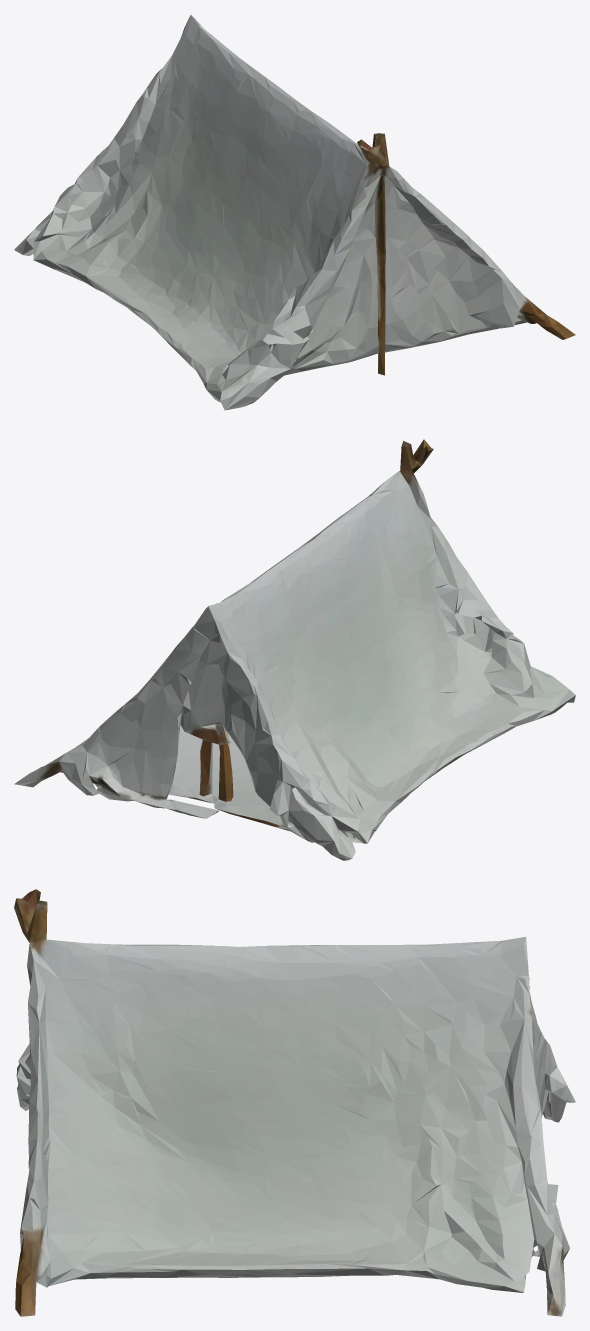
The model's file is bar_tarp_dugout.glb.
3 views of the same model, one above another, from view 1: azimuth 30°, elevation 25°; view 2: azimuth 150°, elevation 25°; view 3: azimuth 270°, elevation 25° (orthographic). The views are drawn at different scales.
Visible parts, largest first — view 1: bar_tarp_dugout_tex; view 2: bar_tarp_dugout_tex; view 3: bar_tarp_dugout_tex.
Part boxes in pixels (x1,y1,x2,y2): bar_tarp_dugout_tex: (14, 14, 575, 410); bar_tarp_dugout_tex: (14, 439, 575, 860); bar_tarp_dugout_tex: (14, 889, 575, 1316).
Bounding box in the file's own units: 3.46 × 2.26 × 3.8.
Materials: 1 (1 with a texture image).
